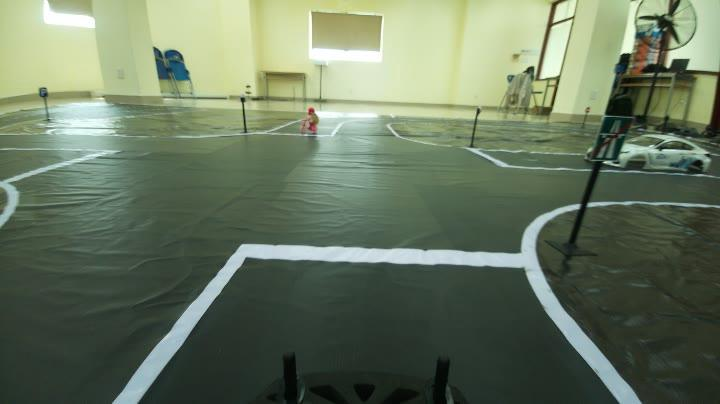highway_exit: (581, 108, 626, 158)
